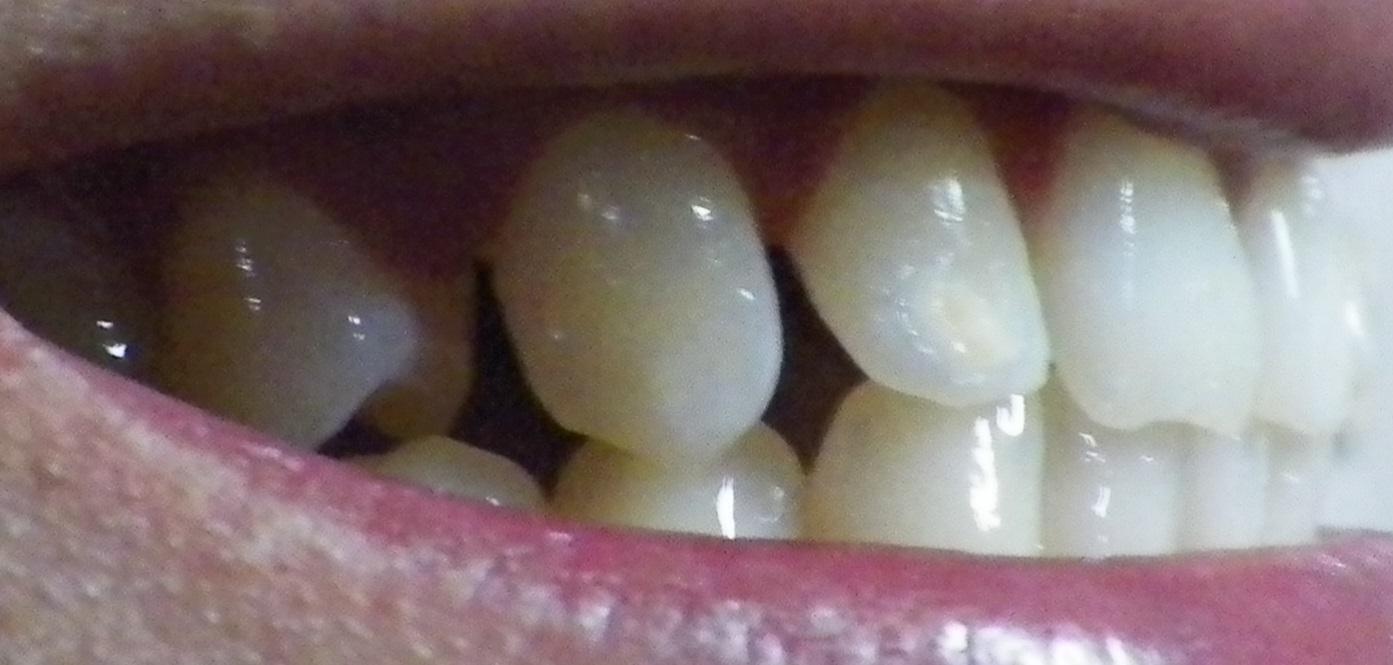boca: (141, 93, 1368, 550)
